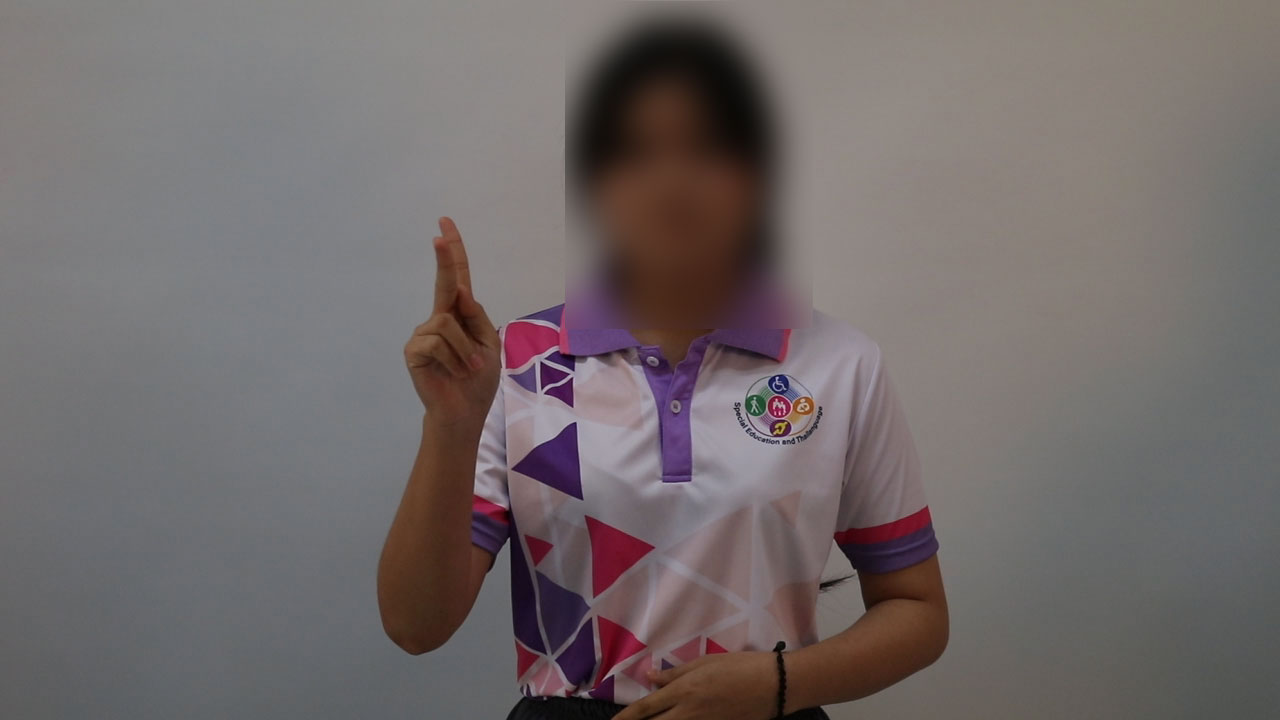ko: (385, 214, 514, 415)
